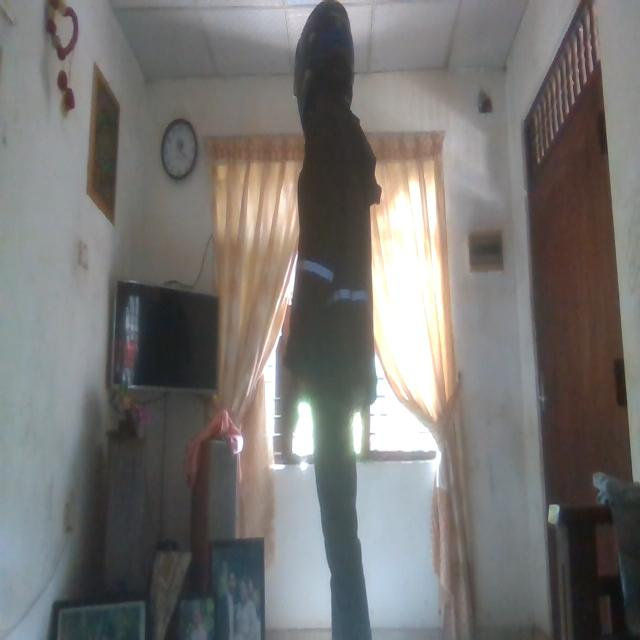Helmet_Wearer: (286, 0, 360, 120)
Jacket_Wearer: (286, 111, 388, 424)
Person: (279, 2, 381, 640)
